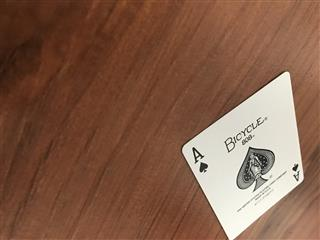AceOfSpades: (180, 70, 304, 240)
